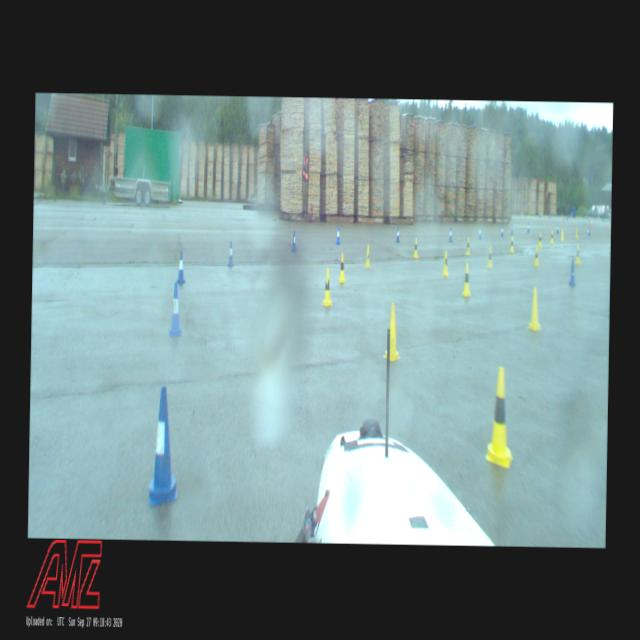blue_cone: (148, 386, 180, 506), (168, 282, 182, 336), (177, 250, 186, 283), (568, 260, 576, 286), (227, 241, 233, 266), (290, 230, 296, 252), (335, 226, 340, 244), (395, 226, 399, 242), (448, 227, 452, 242), (478, 226, 482, 240), (500, 224, 503, 236), (526, 222, 528, 232)
yellow_cone: (484, 367, 514, 468), (382, 302, 402, 360), (526, 286, 542, 330), (321, 267, 333, 306), (461, 262, 471, 296), (338, 252, 347, 282), (441, 250, 449, 276), (486, 245, 492, 268), (364, 245, 370, 268), (533, 246, 539, 266), (574, 245, 580, 264), (413, 238, 418, 258), (465, 237, 470, 254), (509, 236, 514, 252), (538, 232, 542, 248), (550, 230, 554, 243), (560, 229, 564, 240), (575, 228, 578, 238)
